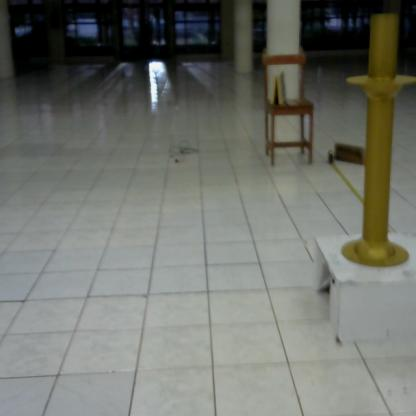pole: (344, 15, 413, 271)
